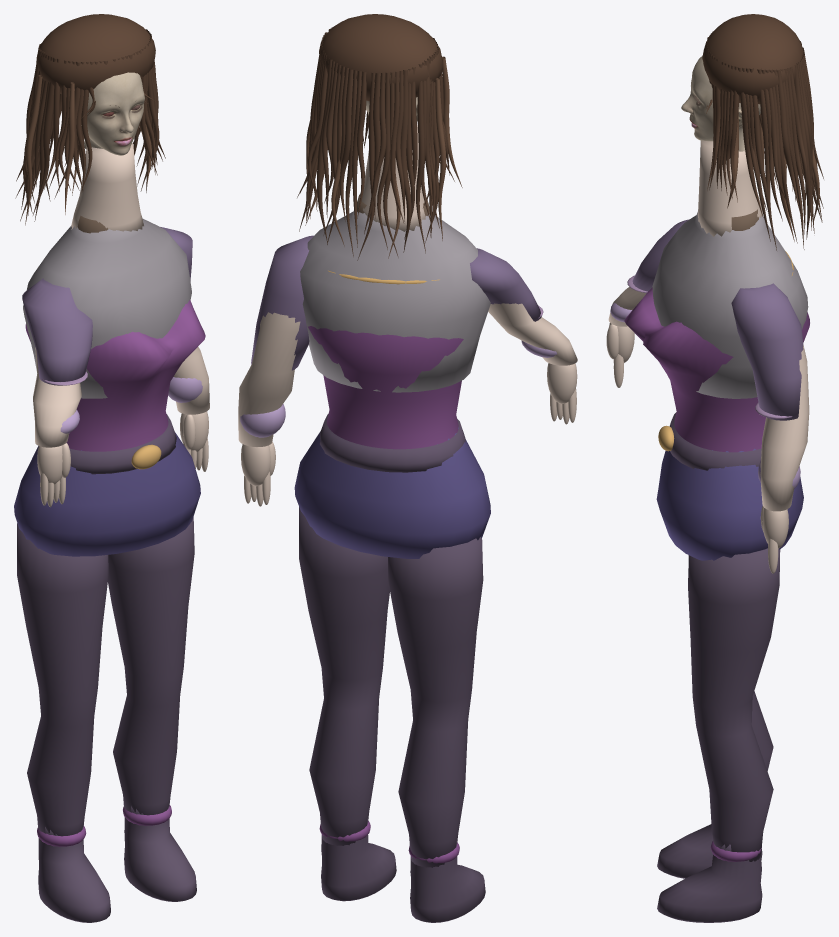
File: katie_punch_1.glb
3 views of the same model, side by side, from view 1: azimuth 30°, elevation 25°; view 2: azimuth 150°, elevation 25°; view 3: azimuth 270°, elevation 25° (orthographic). The views are drawn at different scales.
Visible parts, largest first — view 1: Continuous trouser leg, Continuous trouser leg.001, Fitted hip panel, Katie linen underlayer, Violet sweetheart bodice, Katie hair locks, Katie hair crown, Katie smooth sleeve, Fitted boot, Fitted boot.001, Katie natural neck, Imported Katie katie (+11 smaller); view 2: Katie linen underlayer, Continuous trouser leg, Continuous trouser leg.001, Katie hair locks, Fitted hip panel, Violet sweetheart bodice, Katie hair crown, Continuous arm.001, Fitted boot, Fitted boot.001, Katie smooth sleeve.001, Waist belt (+7 smaller); view 3: Continuous trouser leg.001, Katie linen underlayer, Katie hair locks, Fitted hip panel, Violet sweetheart bodice, Katie smooth sleeve.001, Katie hair crown, Fitted boot.001, Continuous arm.001, Katie natural neck, Fitted boot, Imported Katie katie (+8 smaller).
Boxes of the visible parts, x1,y1,x2,y2 form: Continuous trouser leg: (17, 523, 108, 836); Continuous trouser leg.001: (108, 517, 194, 815); Fitted hip panel: (14, 420, 200, 556); Katie linen underlayer: (23, 218, 191, 398); Violet sweetheart bodice: (25, 300, 205, 451); Katie hair locks: (15, 29, 165, 221); Katie hair crown: (36, 14, 155, 93); Katie smooth sleeve: (22, 278, 92, 385); Fitted boot: (38, 824, 110, 922); Fitted boot.001: (124, 802, 196, 901); Katie natural neck: (70, 143, 143, 231); Imported Katie katie: (81, 72, 144, 155); Katie linen underlayer: (300, 211, 490, 392); Continuous trouser leg: (388, 537, 483, 867); Continuous trouser leg.001: (299, 507, 389, 845); Katie hair locks: (297, 28, 454, 260); Fitted hip panel: (294, 420, 490, 558); Violet sweetheart bodice: (308, 326, 463, 449); Katie hair crown: (319, 14, 442, 101); Continuous arm.001: (238, 312, 300, 446); Fitted boot: (410, 841, 485, 922); Fitted boot.001: (321, 818, 396, 901); Katie smooth sleeve.001: (251, 235, 313, 370); Waist belt: (320, 414, 465, 472); Continuous trouser leg.001: (688, 548, 780, 861); Katie linen underlayer: (652, 212, 808, 398); Katie hair locks: (706, 31, 823, 250); Fitted hip panel: (656, 448, 803, 560); Violet sweetheart bodice: (624, 287, 809, 452); Katie smooth sleeve.001: (731, 283, 803, 420); Katie hair crown: (702, 14, 803, 104); Fitted boot.001: (657, 844, 762, 922); Continuous arm.001: (760, 345, 809, 511); Katie natural neck: (697, 140, 762, 236); Fitted boot: (657, 824, 762, 878); Imported Katie katie: (681, 56, 760, 151).
Size of the model in its own units: 0.6751 by 2.24 by 0.5088.
15 materials, 2 textured.
